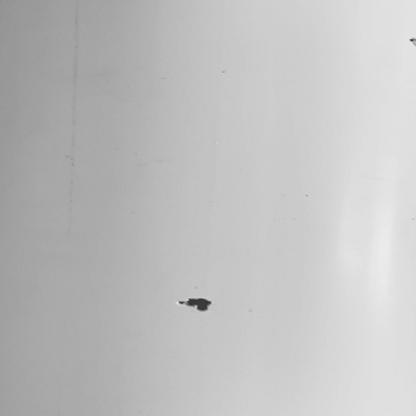kongdong: (173, 293, 227, 321)
